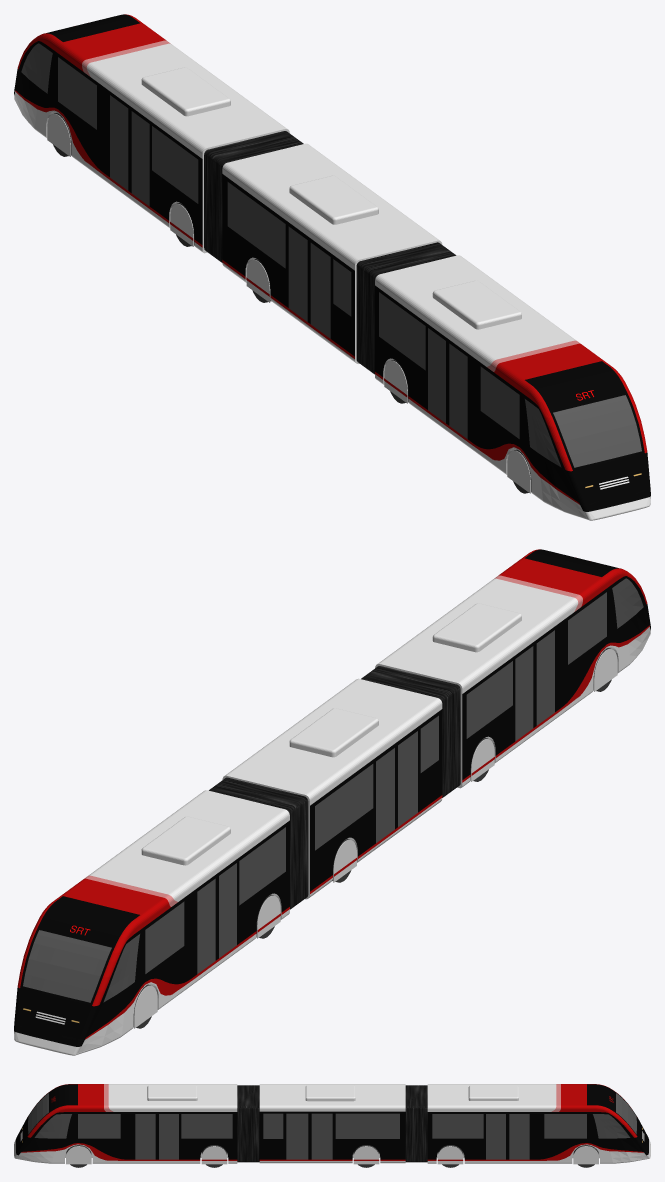
The model's file is brt.gltf.
3 views of the same model, one above another, from view 1: azimuth 30°, elevation 25°; view 2: azimuth 150°, elevation 25°; view 3: azimuth 270°, elevation 25° (orthographic). The views are drawn at different scales.
Visible parts, largest first — view 1: 外壳-银色 (×3), 外壳-玻璃黑 (×12), 外壳-黑边框 (×5), 外壳-花纹 (×4), 连接处 (×2), 立方体, 立方体.2, 立方体.1, 轮子挡板.2; view 2: 外壳-银色 (×3), 外壳-玻璃黑 (×12), 外壳-黑边框 (×5), 外壳-花纹 (×4), 连接处 (×2), 立方体, 立方体.2, 立方体.1, 轮子挡板; view 3: 外壳-玻璃黑 (×13), 外壳-黑边框 (×5), 外壳-银色 (×3), 连接处 (×2), 外壳-花纹 (×5), 立方体, 轮子挡板.1 (×2), 立方体.1, 立方体.2, 轮子挡板.2, 轮子挡板, 轮子挡板.3 (+1 smaller).
Part boxes in pixels (<box>): 外壳-银色 (×3): <box>14,43,650,520</box>; 外壳-玻璃黑 (×12): <box>21,43,641,467</box>; 外壳-黑边框 (×5): <box>14,14,650,511</box>; 外壳-花纹 (×4): <box>15,14,647,504</box>; 连接处 (×2): <box>204,131,456,374</box>; 立方体: <box>289,175,378,224</box>; 立方体.2: <box>141,67,230,116</box>; 立方体.1: <box>432,280,521,329</box>; 轮子挡板.2: <box>507,450,530,493</box>; 外壳-银色 (×3): <box>14,578,650,1055</box>; 外壳-玻璃黑 (×12): <box>23,578,643,1002</box>; 外壳-黑边框 (×5): <box>14,549,650,1046</box>; 外壳-花纹 (×4): <box>17,549,649,1039</box>; 连接处 (×2): <box>209,666,460,909</box>; 立方体: <box>289,708,378,757</box>; 立方体.2: <box>141,816,230,865</box>; 立方体.1: <box>432,603,521,652</box>; 轮子挡板: <box>134,985,157,1028</box>; 外壳-玻璃黑 (×13): <box>28,1093,636,1159</box>; 外壳-黑边框 (×5): <box>16,1084,648,1159</box>; 外壳-银色 (×3): <box>14,1084,650,1163</box>; 连接处 (×2): <box>237,1085,427,1162</box>; 外壳-花纹 (×5): <box>21,1084,643,1160</box>; 立方体: <box>305,1085,355,1101</box>; 轮子挡板.1 (×2): <box>201,1146,379,1164</box>; 立方体.1: <box>147,1085,197,1100</box>; 立方体.2: <box>468,1085,518,1100</box>; 轮子挡板.2: <box>573,1146,598,1164</box>; 轮子挡板: <box>66,1146,91,1164</box>; 轮子挡板.3: <box>437,1146,463,1164</box>.
Bounding box in the file's own units: 10.41 × 13.47 × 119.
9 materials, 1 textured.
